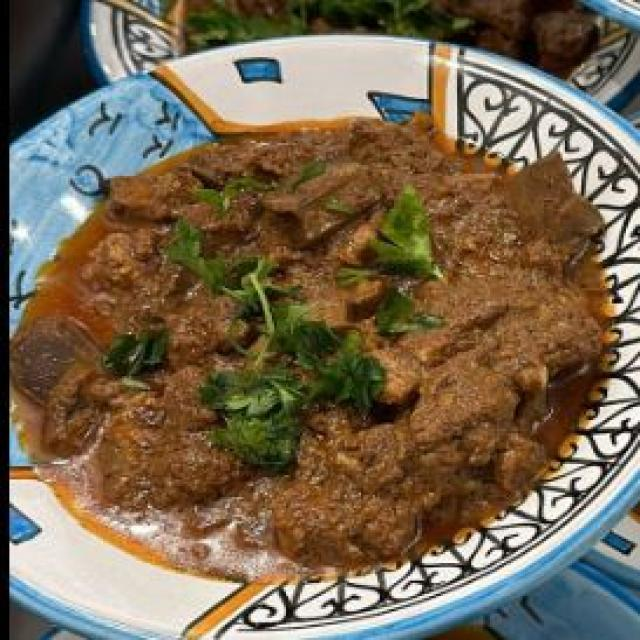kamouniya: (20, 109, 594, 576)
